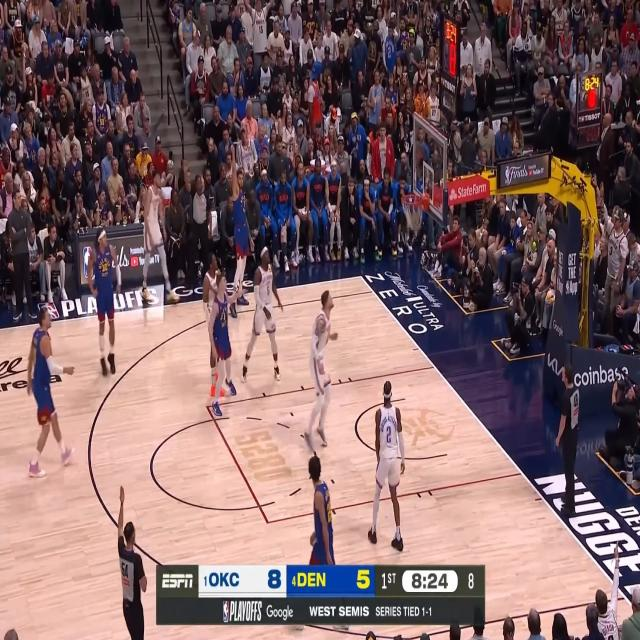ball: (410, 210, 421, 230)
number: (386, 425, 392, 445), (101, 262, 108, 274), (266, 284, 270, 297)
player: (288, 454, 348, 632), (28, 303, 75, 479), (239, 245, 284, 385), (304, 287, 339, 458), (86, 225, 122, 378), (208, 272, 244, 418), (141, 169, 179, 305), (228, 143, 256, 319), (202, 252, 230, 402)
referee: (367, 378, 406, 554), (117, 483, 147, 640), (556, 362, 582, 518), (183, 158, 212, 290)
rim: (400, 191, 424, 209)
